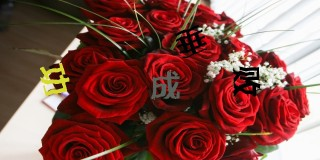功: (38, 63, 70, 96)
垂: (176, 25, 208, 58)
成: (150, 71, 182, 99)
败: (232, 66, 262, 96)
